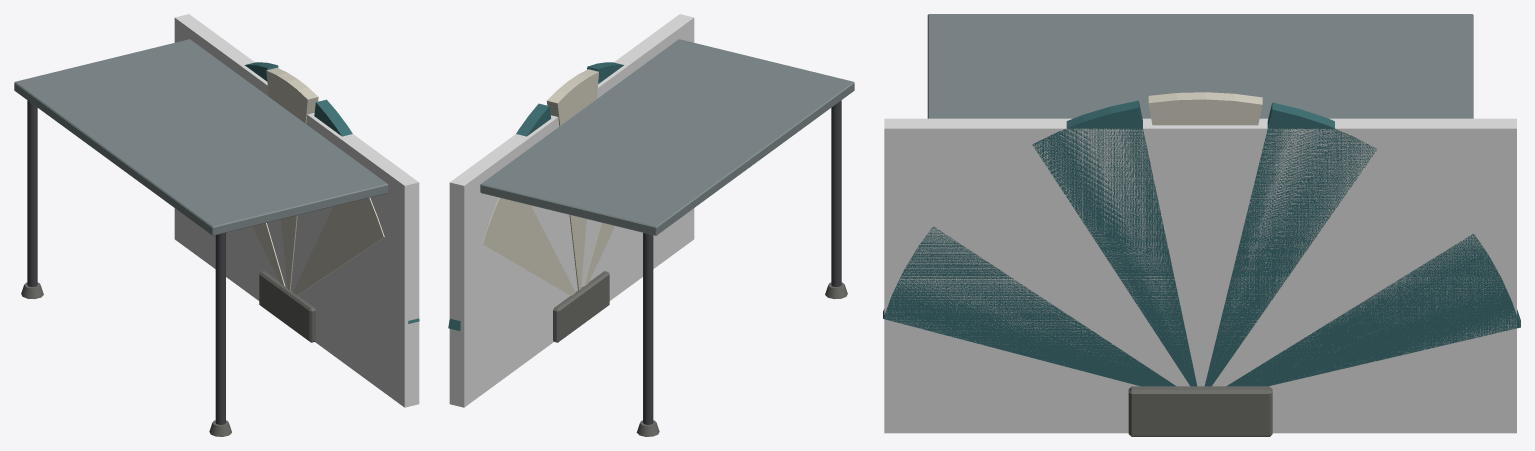
File: stop-16.glb
3 views of the same model, side by side, from view 1: azimuth 30°, elevation 25°; view 2: azimuth 150°, elevation 25°; view 3: azimuth 270°, elevation 25° (orthographic). The views are drawn at different scales.
Visible parts, largest first — view 1: 03_#7f8a8c, solid, 01_#d8d4c4, 04_#4c4e52, 02_#6e6e6a, 00_paint0; view 2: 03_#7f8a8c, solid, 01_#d8d4c4, 04_#4c4e52, 02_#6e6e6a, 00_paint0; view 3: solid, 00_paint0, 03_#7f8a8c, 02_#6e6e6a, 01_#d8d4c4.
Part boxes in pixels (x1,y1,x2,y2): 03_#7f8a8c: (14, 39, 388, 235); solid: (174, 14, 419, 407); 01_#d8d4c4: (252, 68, 384, 295); 04_#4c4e52: (27, 100, 225, 424); 02_#6e6e6a: (21, 271, 315, 436); 00_paint0: (245, 62, 419, 323); 03_#7f8a8c: (480, 39, 854, 235); solid: (449, 14, 694, 407); 01_#d8d4c4: (482, 69, 614, 295); 04_#4c4e52: (643, 100, 841, 424); 02_#6e6e6a: (553, 271, 847, 436); 00_paint0: (448, 62, 623, 330); solid: (884, 118, 1516, 433); 00_paint0: (883, 100, 1520, 386); 03_#7f8a8c: (927, 14, 1473, 118); 02_#6e6e6a: (1128, 386, 1272, 436); 01_#d8d4c4: (1148, 92, 1262, 125).
Bounding box in the file's own units: 2.19 × 2.54 × 4.44.
